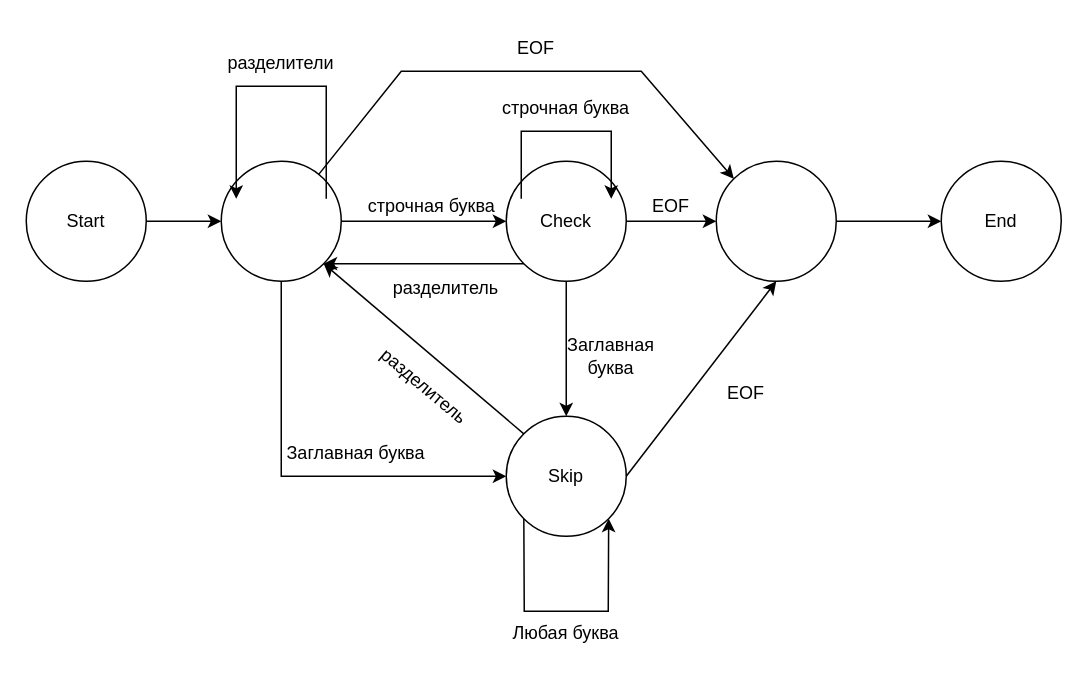
Image size: 1088x681. Some labels were removed from this diagram. The shapes that lost their labels are listed below. From the top down, each one's box as (x1, y1, x2, y2) in pixels, then its label:
(220, 160, 341, 281): Search
(715, 160, 836, 281): Result
